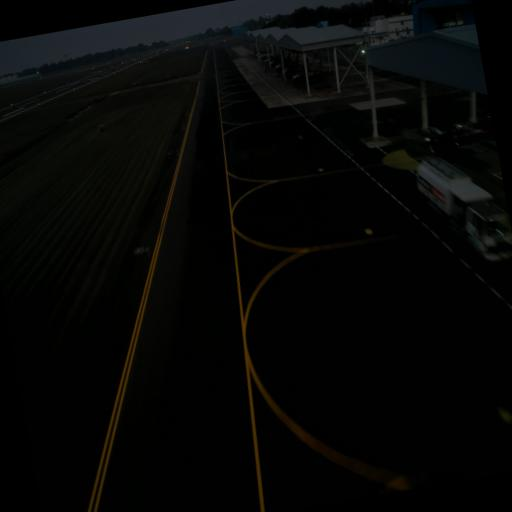on: (168, 150, 172, 156)
